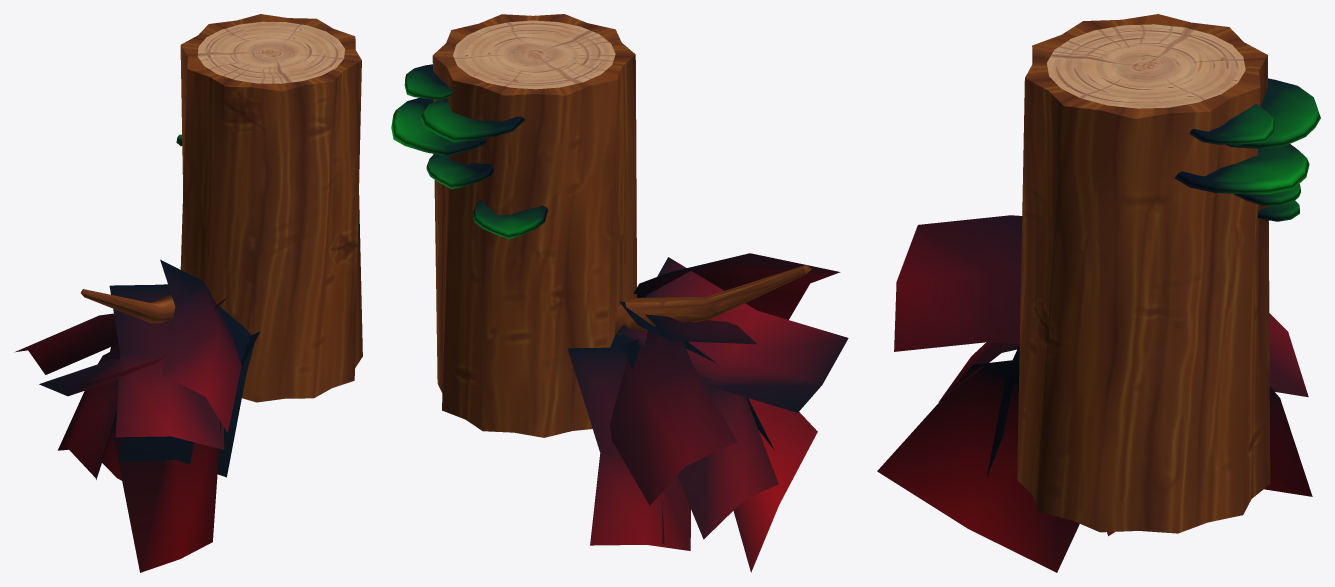
The model's file is obj_harvests_trees_pine01_p04.fbx.
3 renders of one model, left to right at view 1: azimuth 30°, elevation 25°; view 2: azimuth 150°, elevation 25°; view 3: azimuth 270°, elevation 25°, orthographic. The views are drawn at different scales.
Parts seen in each view (by area): view 1: obj_harvests_trees_pine01_p04; view 2: obj_harvests_trees_pine01_p04; view 3: obj_harvests_trees_pine01_p04.
Part boxes in pixels (bbox=[...]): obj_harvests_trees_pine01_p04: bbox=[14, 14, 362, 572]; obj_harvests_trees_pine01_p04: bbox=[391, 14, 848, 572]; obj_harvests_trees_pine01_p04: bbox=[877, 14, 1320, 572].
Size of the model in its own units: 8.88 by 11.79 by 7.72.
